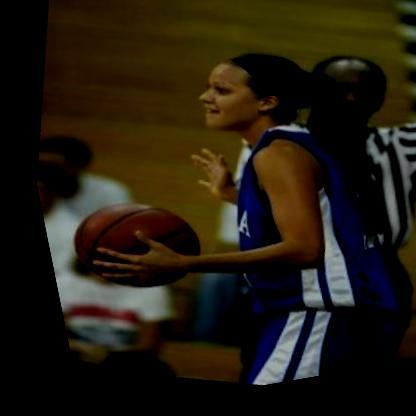basketball: (37, 172, 212, 321)
